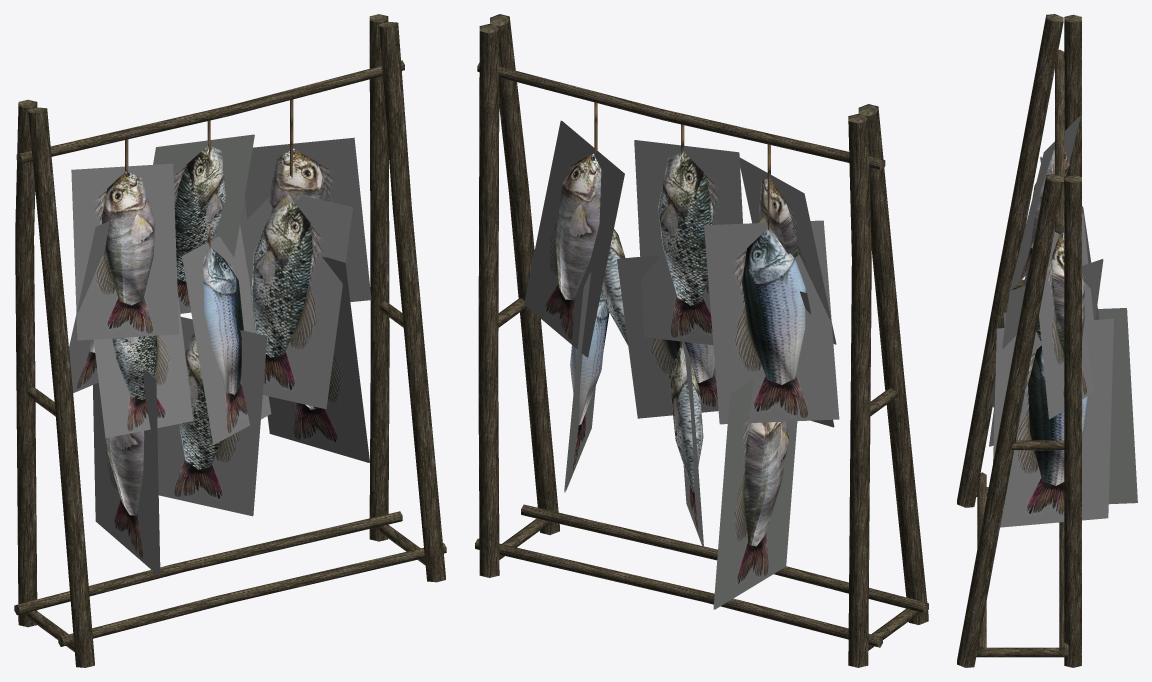
The model's file is thm_dant_fish_l0.fbx.
3 renders of one model, left to right at view 1: azimuth 30°, elevation 25°; view 2: azimuth 150°, elevation 25°; view 3: azimuth 270°, elevation 25°, orthographic. The views are drawn at different scales.
Visible parts, largest first — view 1: mesh_node; view 2: mesh_node; view 3: mesh_node.
Boxes of the visible parts, bbox=[...] form: mesh_node: bbox=[14, 14, 446, 667]; mesh_node: bbox=[475, 14, 928, 667]; mesh_node: bbox=[957, 14, 1137, 667].
Bounding box in the file's own units: 1.39 × 1.81 × 0.6098.
